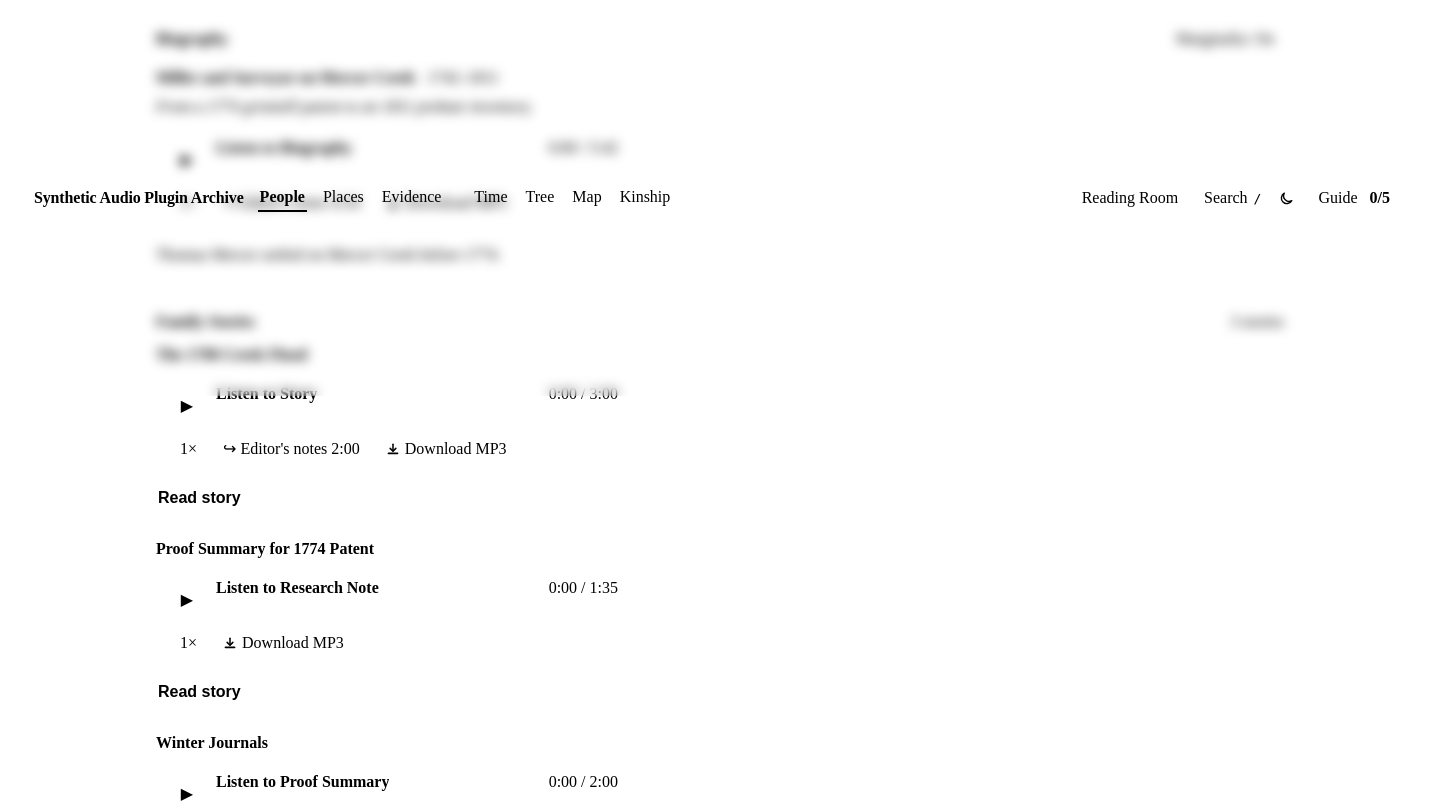
Test: createNarrativeAudioPlugin (Idea 1 + Idea 4) › renders kind-specific labels for biography, family_story, research_note, memoir, custom label override, and surfaces audio onError alerts
The width and height of the screenshot is (1440, 810).
Later steps or results of the test are not shown.
(page scrolled)
Click the button with class "narrative-audio-play-btn" next to "Listen to Story" at (187, 405), box [170,388,204,422]
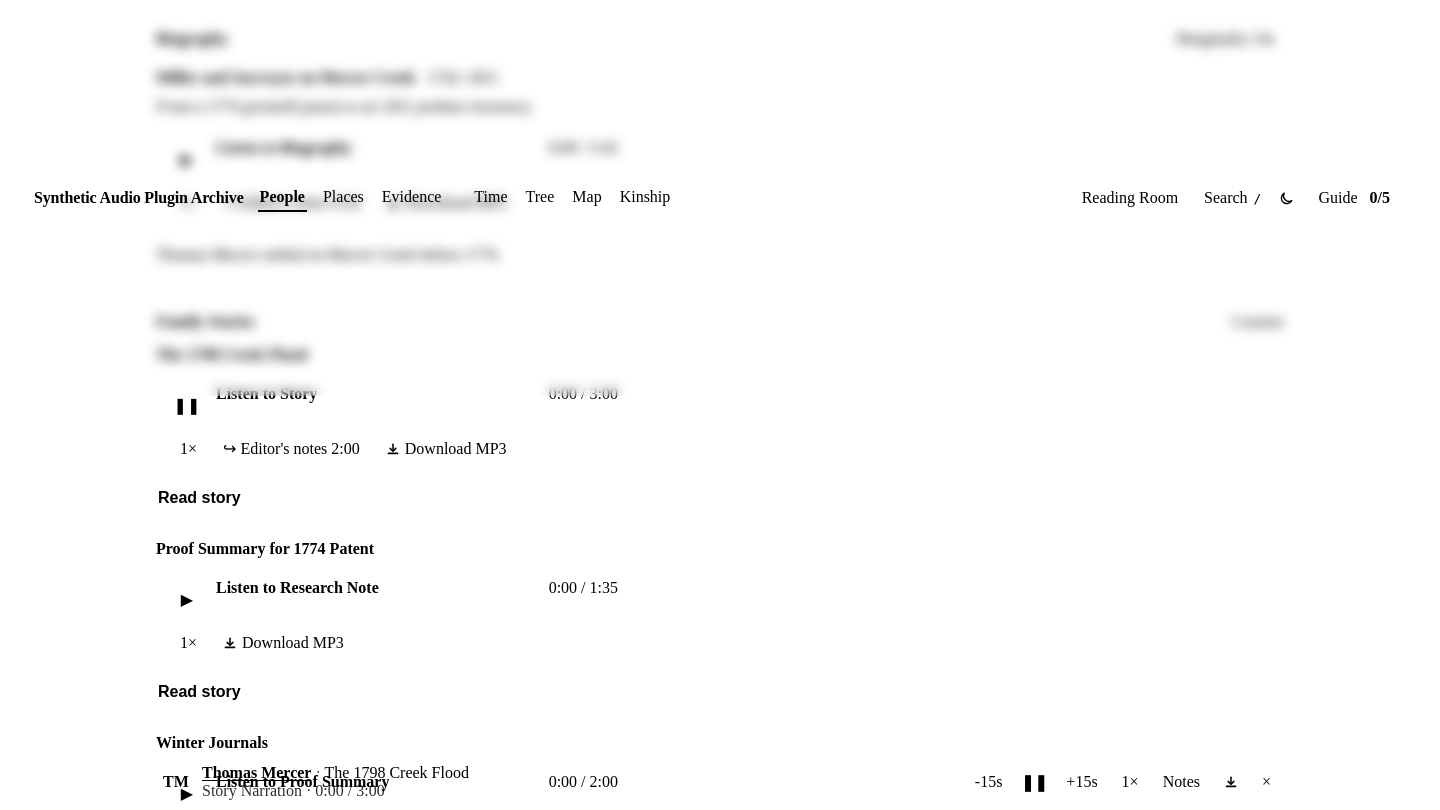
Result: the element with test id "narrative-audio-dock" shows "Story Narration" at [202,782,302,799]
